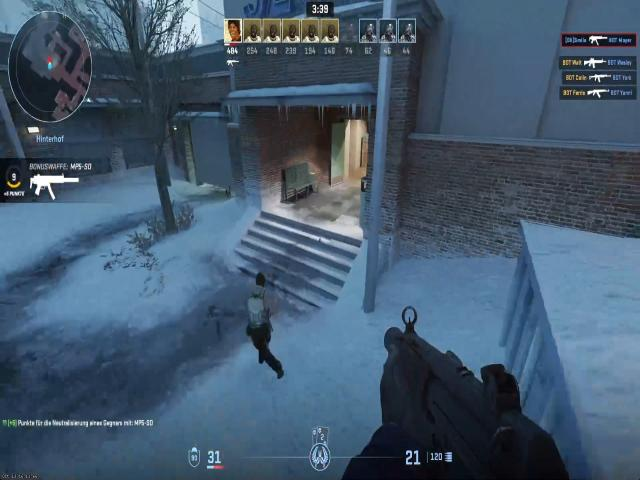T: (242, 278, 277, 341)
T-Head: (254, 268, 268, 291)
